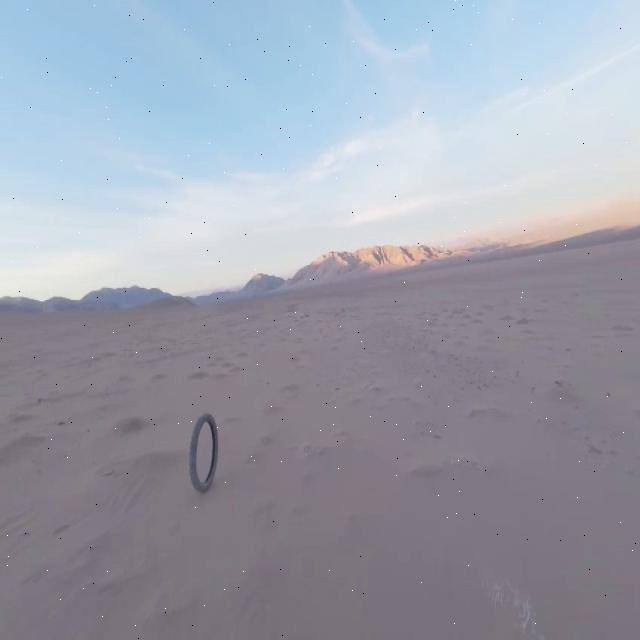Tire: (189, 412, 218, 491)
